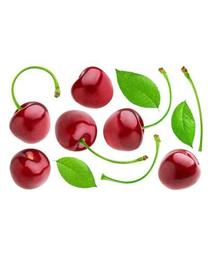cherry: (55, 109, 97, 151), (158, 149, 201, 190), (71, 67, 112, 109), (10, 102, 50, 144), (103, 109, 143, 150), (10, 149, 51, 189)
